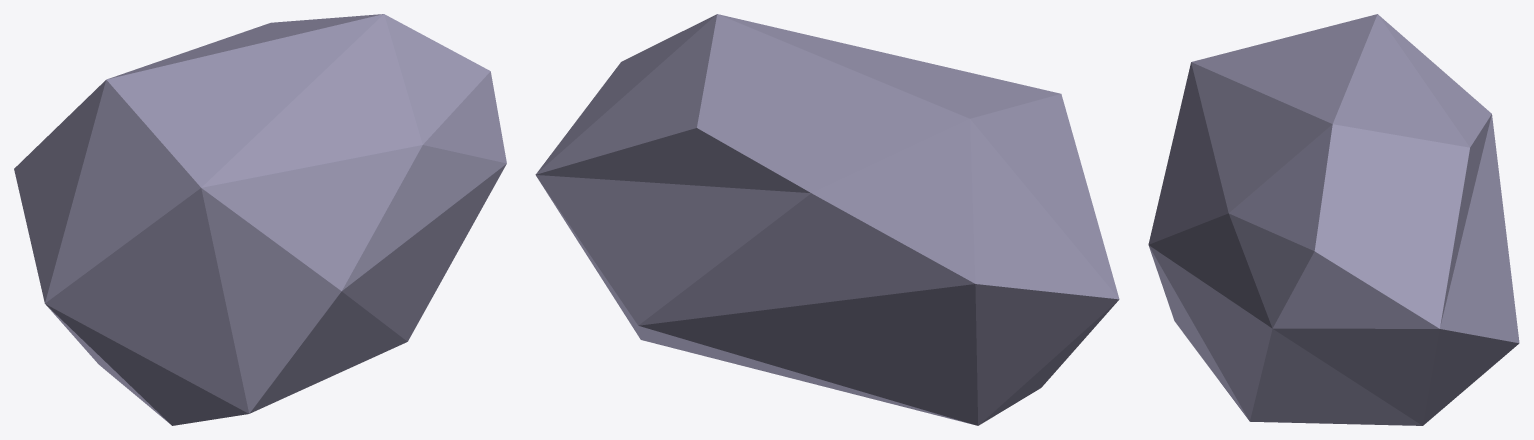
Rendered from rochapequena.fbx.
3 renders of one model, left to right at view 1: azimuth 30°, elevation 25°; view 2: azimuth 150°, elevation 25°; view 3: azimuth 270°, elevation 25°, orthographic. The views are drawn at different scales.
Visible parts, largest first — view 1: rocha_pequena; view 2: rocha_pequena; view 3: rocha_pequena.
Boxes of the visible parts, x1,y1,x2,y2 form: rocha_pequena: [14, 14, 506, 425]; rocha_pequena: [535, 14, 1119, 425]; rocha_pequena: [1148, 14, 1519, 425].
Size of the model in its own units: 7.64 by 4.89 by 5.
